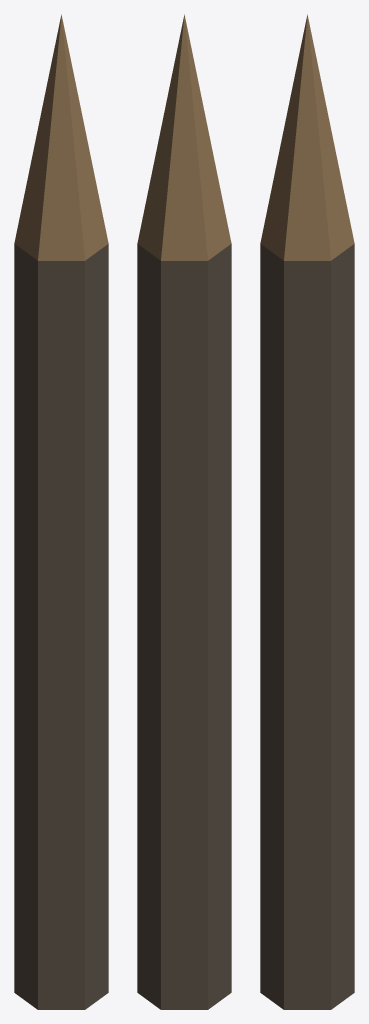
File: Wooden_Spear_03.fbx
3 views of the same model, side by side, from view 1: azimuth 90°, elevation 25°; view 2: azimuth 150°, elevation 25°; view 3: azimuth 270°, elevation 25° (orthographic).
Parts seen in each view (by area): view 1: Wooden_Spear; view 2: Wooden_Spear; view 3: Wooden_Spear.
Part boxes in pixels (<box>): Wooden_Spear: <box>14,14,108,1009</box>; Wooden_Spear: <box>137,14,231,1009</box>; Wooden_Spear: <box>260,14,354,1009</box>.
Bounding box in the file's own units: 6.4 × 84.79 × 7.41.
